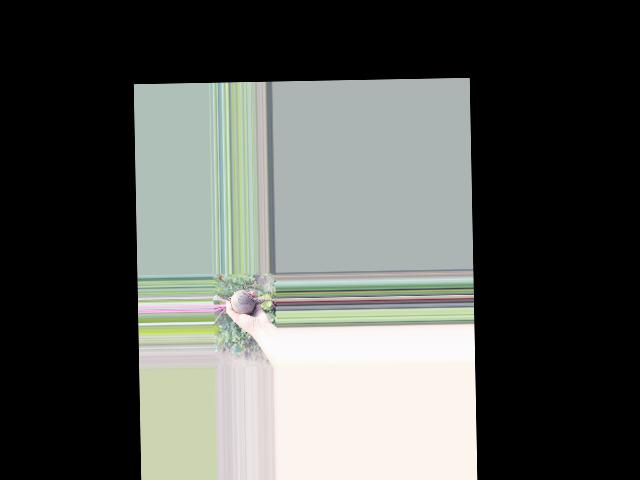beet: (213, 279, 277, 324)
